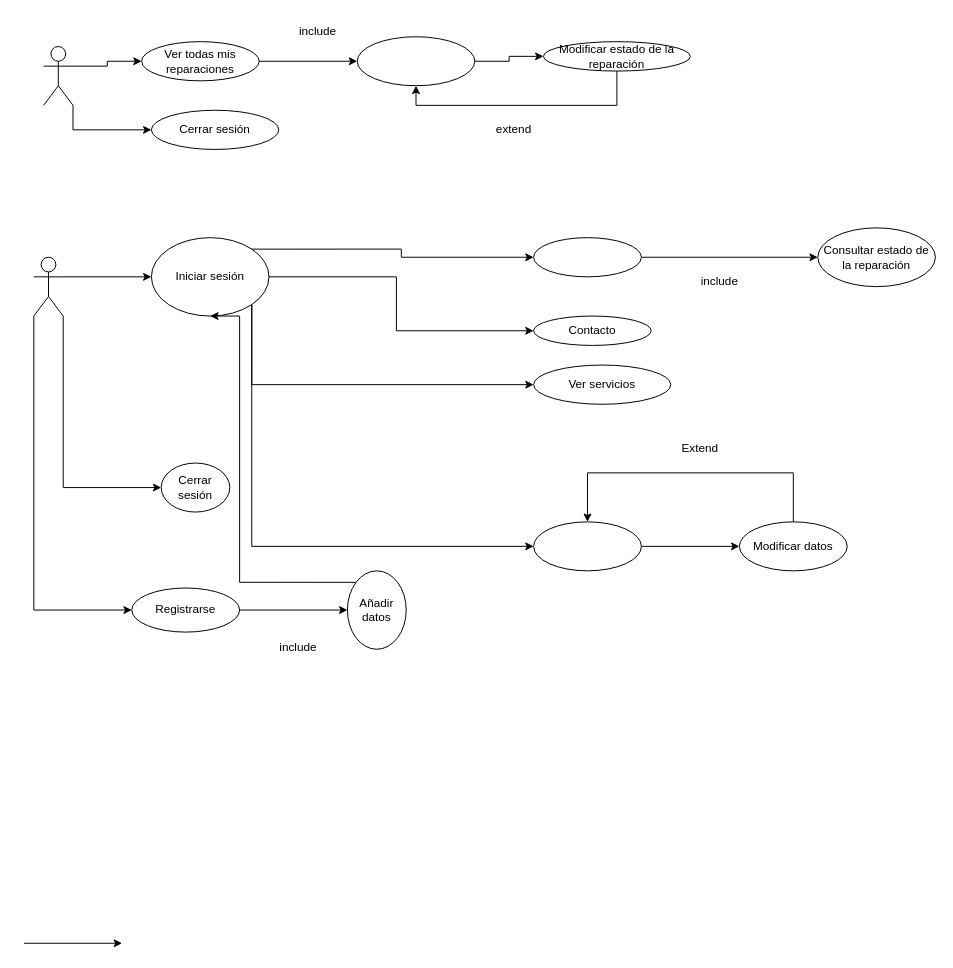
Some shapes in this 953 by 968 pixel diagram are drawn without their labels. Each missing label, with the box of its shape:
Admin: (43, 46, 73, 105)
Usuario: (33, 256, 63, 316)
Ver estado de reparación: (356, 36, 475, 86)
Ver mi perfil: (533, 521, 641, 571)
Ver mis reparaciones: (533, 237, 641, 277)
